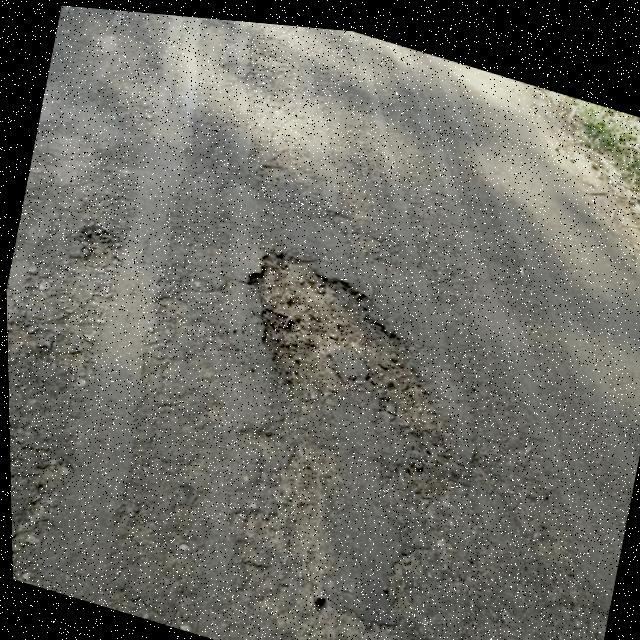pothole: (202, 220, 476, 468)
